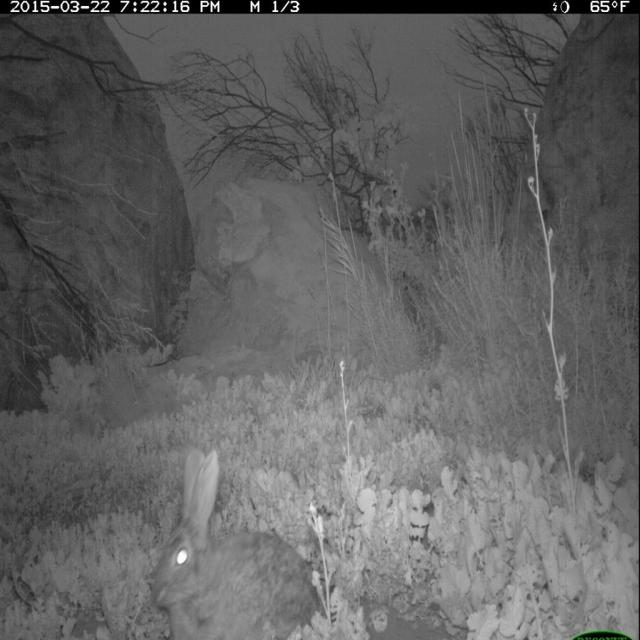rabbit: (143, 439, 346, 640)
